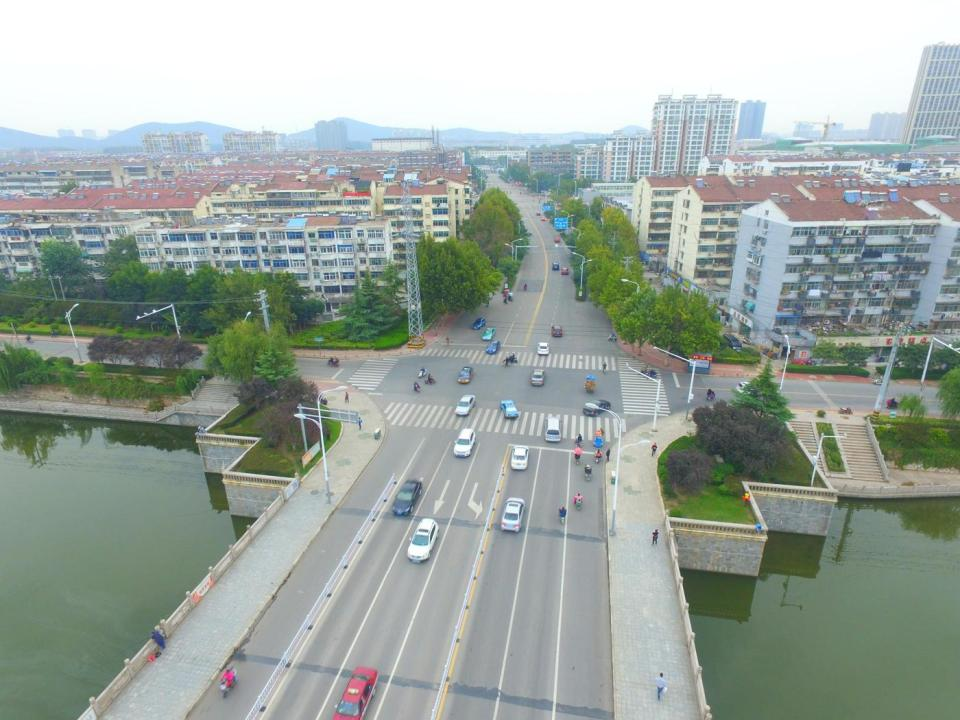car: (331, 666, 379, 720), (405, 517, 440, 564), (393, 479, 423, 515), (499, 497, 525, 534), (733, 378, 770, 400), (453, 428, 478, 457), (542, 413, 564, 442), (582, 398, 612, 417), (452, 393, 476, 416), (510, 443, 528, 470), (456, 365, 475, 384), (500, 400, 519, 418), (530, 368, 546, 386), (486, 340, 500, 356), (550, 324, 564, 338), (471, 317, 488, 328), (482, 327, 496, 340), (537, 342, 549, 355), (561, 266, 569, 276), (552, 261, 560, 270), (554, 237, 560, 242), (539, 216, 546, 220), (536, 210, 540, 216)
van: (722, 332, 744, 354)
